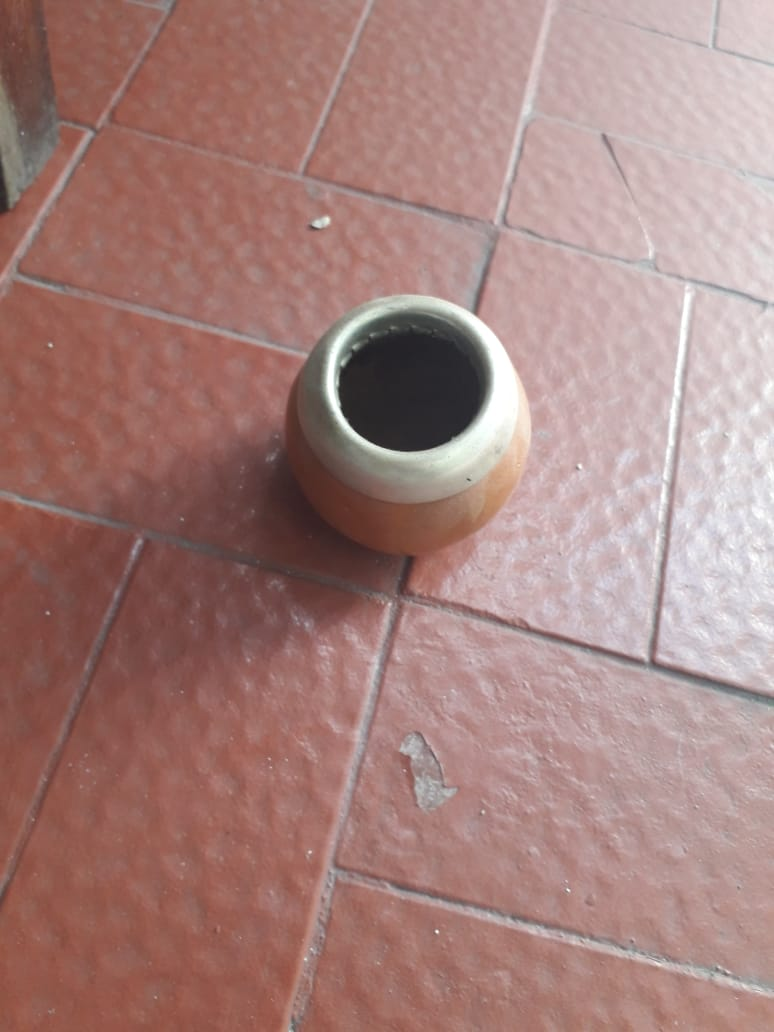calabaza: (278, 292, 532, 546)
mate: (280, 294, 534, 548)
